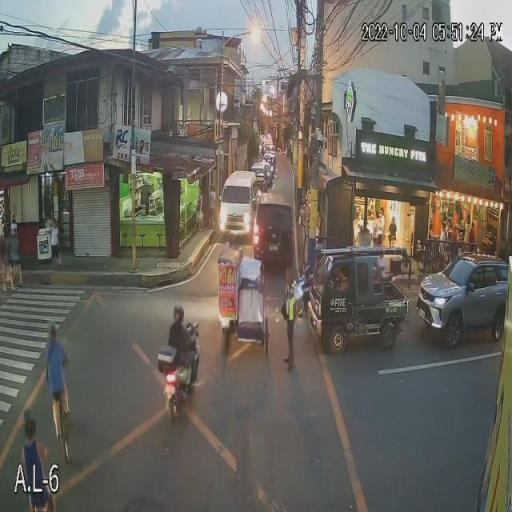helmet: (168, 300, 188, 323)
motorcycle: (154, 321, 206, 425)
rider: (167, 324, 201, 394)
